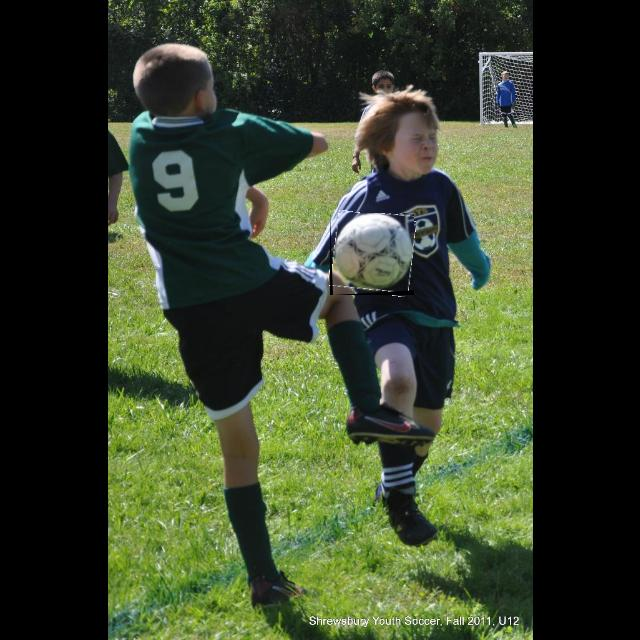Football: (330, 213, 414, 295)
